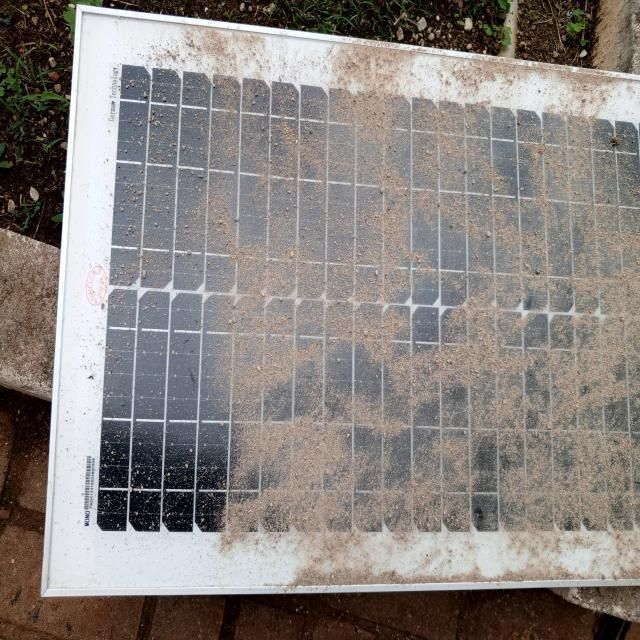Surface Contaminant: (117, 72, 559, 559)
